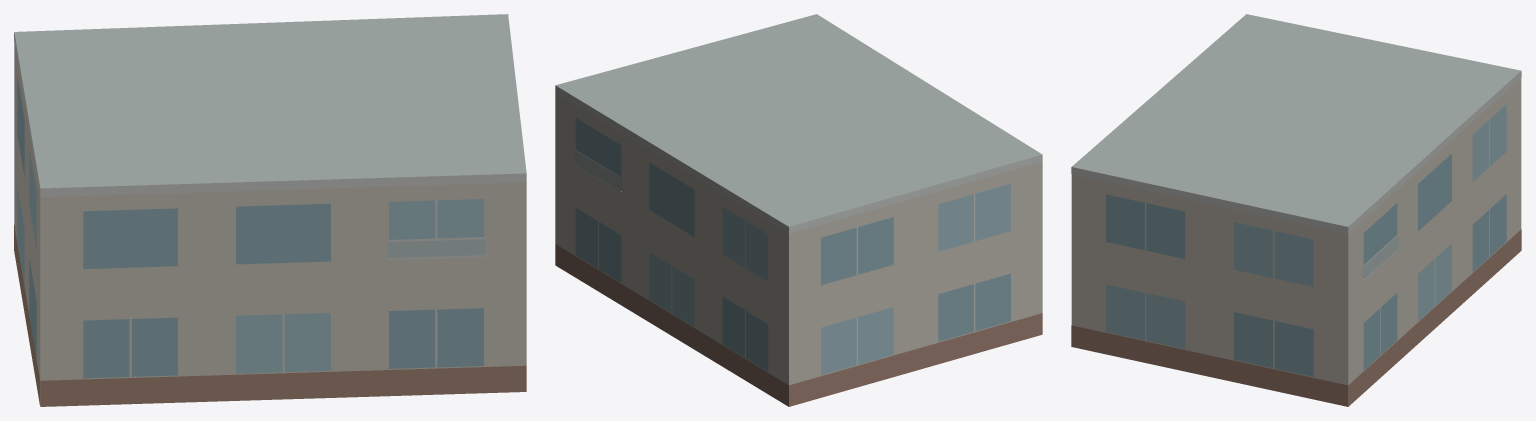
Rendered from survey-upis-32663365.glb.
3 renders of one model, left to right at view 1: azimuth 30°, elevation 25°; view 2: azimuth 150°, elevation 25°; view 3: azimuth 270°, elevation 25°, orthographic. The views are drawn at different scales.
Parts seen in each view (by area): view 1: survey-upis-32663365.tmp; view 2: survey-upis-32663365.tmp; view 3: survey-upis-32663365.tmp.
Part boxes in pixels (x1,y1,x2,y2): survey-upis-32663365.tmp: [14, 14, 526, 406]; survey-upis-32663365.tmp: [555, 14, 1042, 406]; survey-upis-32663365.tmp: [1071, 14, 1521, 406].
Size of the model in its own units: 15.49 by 6.1 by 13.83.
